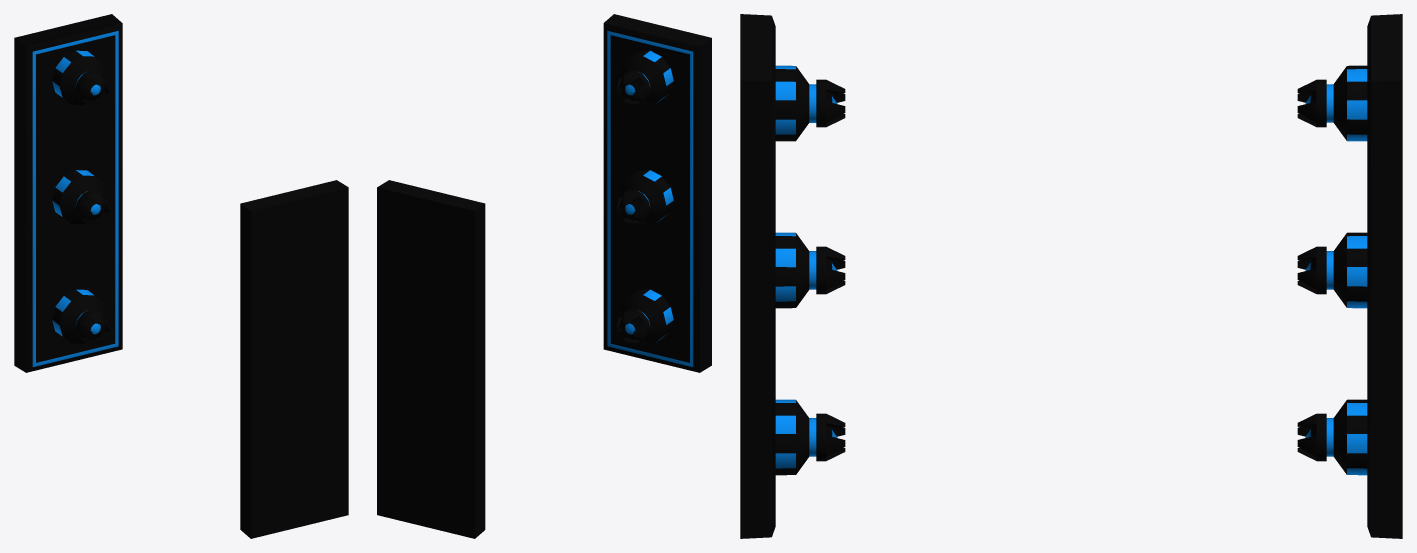
The model's file is Laser beam throwers.FBX.
3 renders of one model, left to right at view 1: azimuth 30°, elevation 25°; view 2: azimuth 150°, elevation 25°; view 3: azimuth 270°, elevation 25°, orthographic. The views are drawn at different scales.
Visible parts, largest first — view 1: laser beams, Cylinder048; view 2: laser beams, Cylinder048; view 3: laser beams, Cylinder048.
Boxes of the visible parts, bbox=[...] form: laser beams: bbox=[240, 180, 348, 538]; Cylinder048: bbox=[14, 14, 122, 372]; laser beams: bbox=[603, 14, 711, 372]; Cylinder048: bbox=[377, 180, 485, 538]; laser beams: bbox=[740, 14, 845, 538]; Cylinder048: bbox=[1297, 14, 1402, 538].
Size of the model in its own units: 65.59 by 210 by 275.
